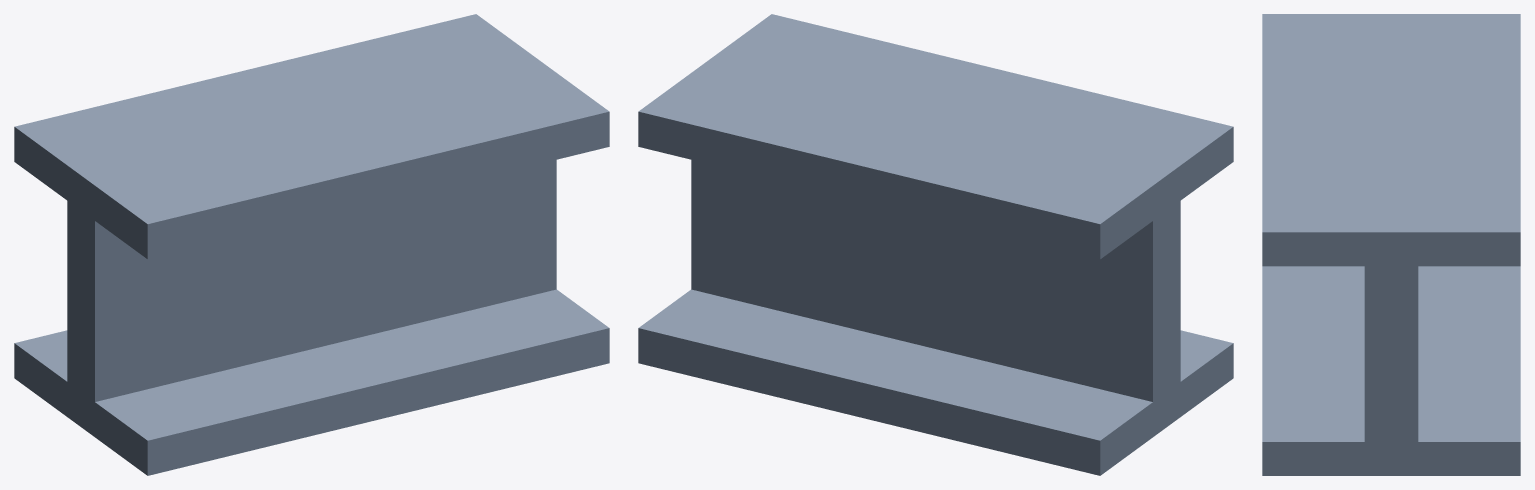
File: steel_beam.glb
3 views of the same model, side by side, from view 1: azimuth 30°, elevation 25°; view 2: azimuth 150°, elevation 25°; view 3: azimuth 270°, elevation 25° (orthographic). The views are drawn at different scales.
Visible parts, largest first — view 1: steel_beam; view 2: steel_beam; view 3: steel_beam.
Part boxes in pixels (x1=…): steel_beam: x1=14, y1=14, x2=609, y2=475; steel_beam: x1=638, y1=14, x2=1233, y2=475; steel_beam: x1=1262, y1=14, x2=1520, y2=475.
Bounding box in the file's own units: 0.96 × 0.5 × 0.48.
